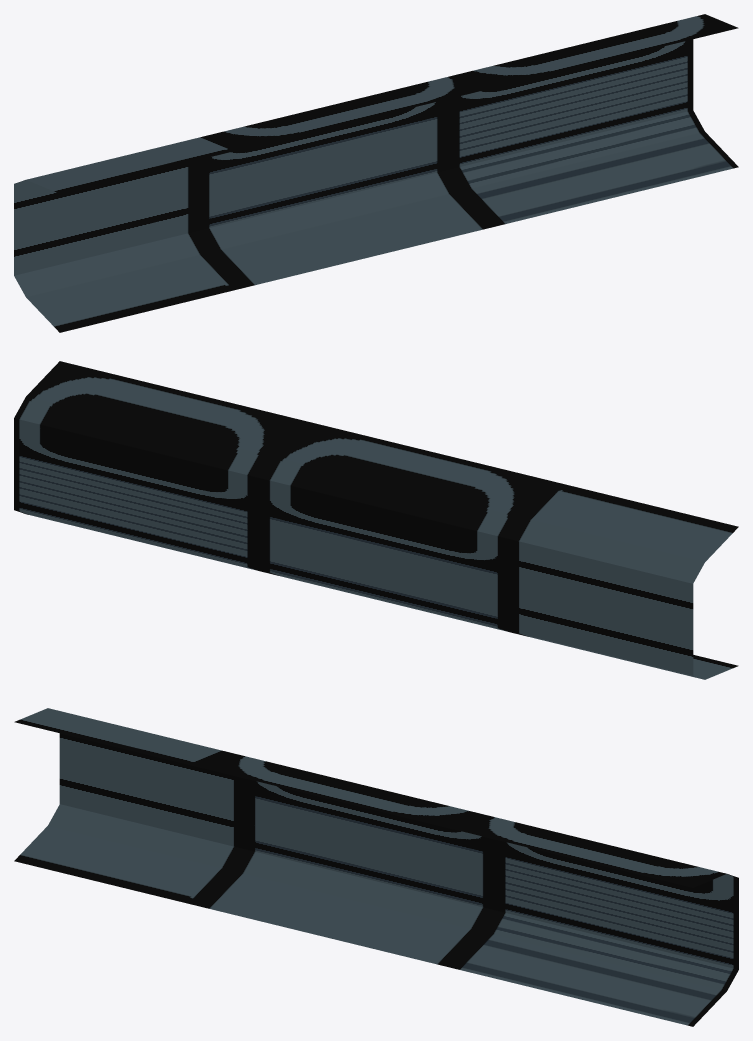
The model's file is weird piece for adams witchcraft.glb.
3 renders of one model, top to bottom at view 1: azimuth 30°, elevation 25°; view 2: azimuth 150°, elevation 25°; view 3: azimuth 330°, elevation 25°, orthographic.
Parts seen in each view (by area): view 1: tread.002; view 2: tread.002; view 3: tread.002.
Boxes of the visible parts, x1,y1,x2,y2 form: tread.002: (14,14,738,332); tread.002: (14,361,738,679); tread.002: (14,708,738,1026).
Bounding box in the file's own units: 2 × 0.3914 × 0.2337.
1 material, 1 textured.
